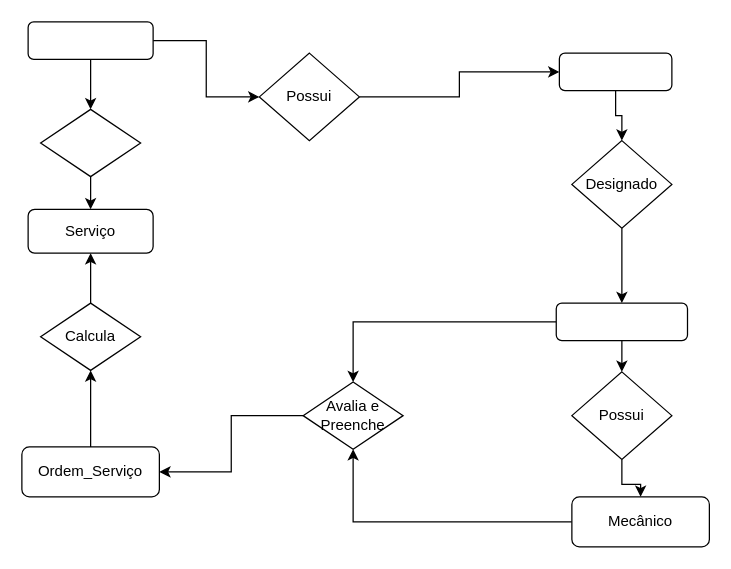
This 731x569 diagram has some shape labels left out. Each missing label, with the centre of its shape:
"aprova" goes at [90,142].
"Cliente" goes at [90,40].
"Equipe" goes at [621,321].
"Veiculo" goes at [615,71].
